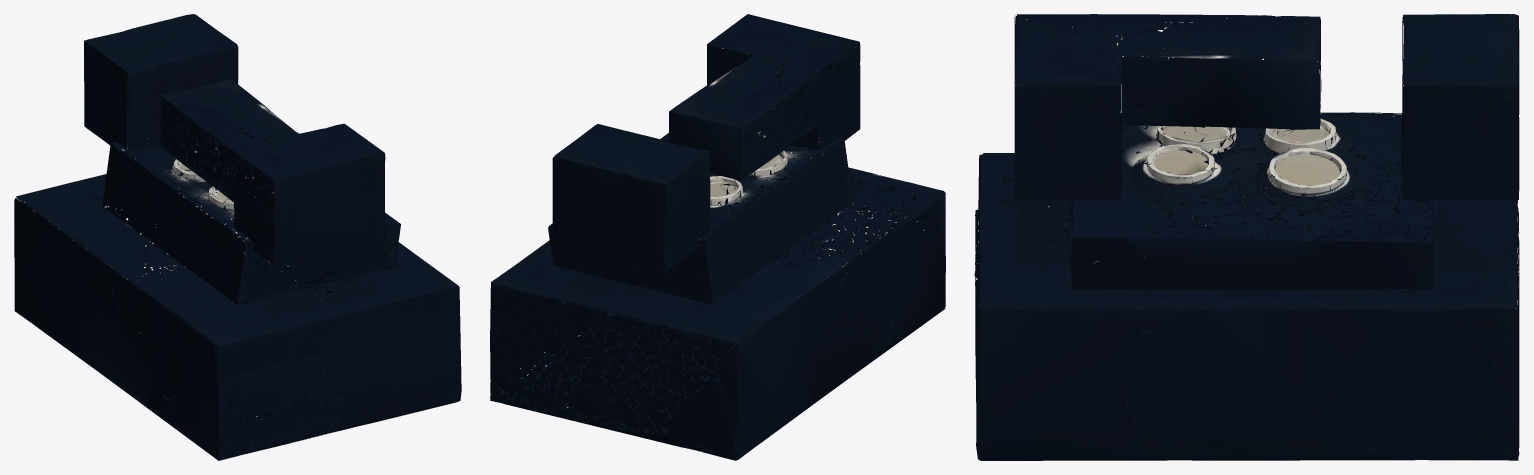
Rendered from ch05_corded_desk_telephone.glb.
3 views of the same model, side by side, from view 1: azimuth 30°, elevation 25°; view 2: azimuth 150°, elevation 25°; view 3: azimuth 270°, elevation 25° (orthographic). The views are drawn at different scales.
Parts seen in each view (by area): view 1: material; view 2: material; view 3: material.
Boxes of the visible parts, left/top/right/bottom form: material: left=14, top=14, right=461, bottom=460; material: left=490, top=14, right=945, bottom=460; material: left=974, top=14, right=1519, bottom=460.
Bounding box in the file's own units: 0.5926 × 0.5939 × 0.8713.
Materials: 1 (1 with a texture image).
